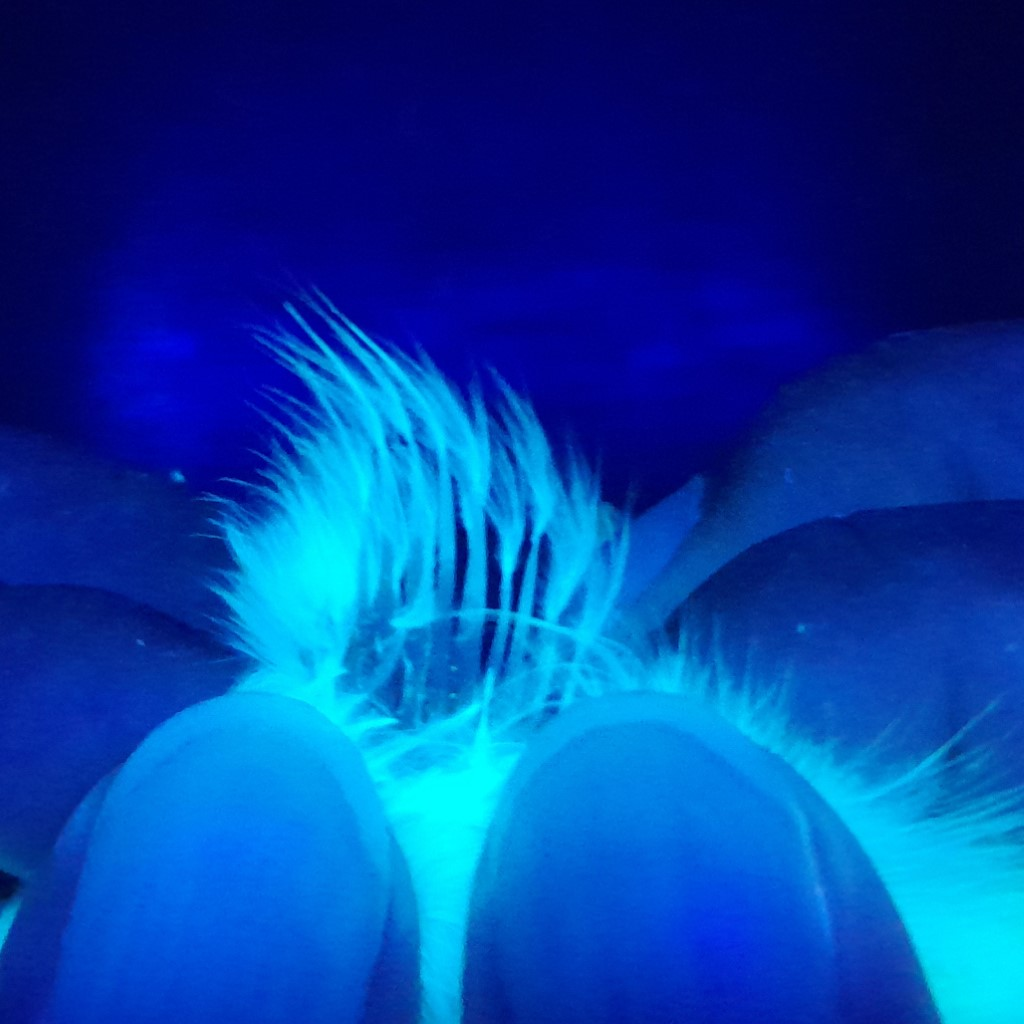male: (327, 443, 618, 776)
